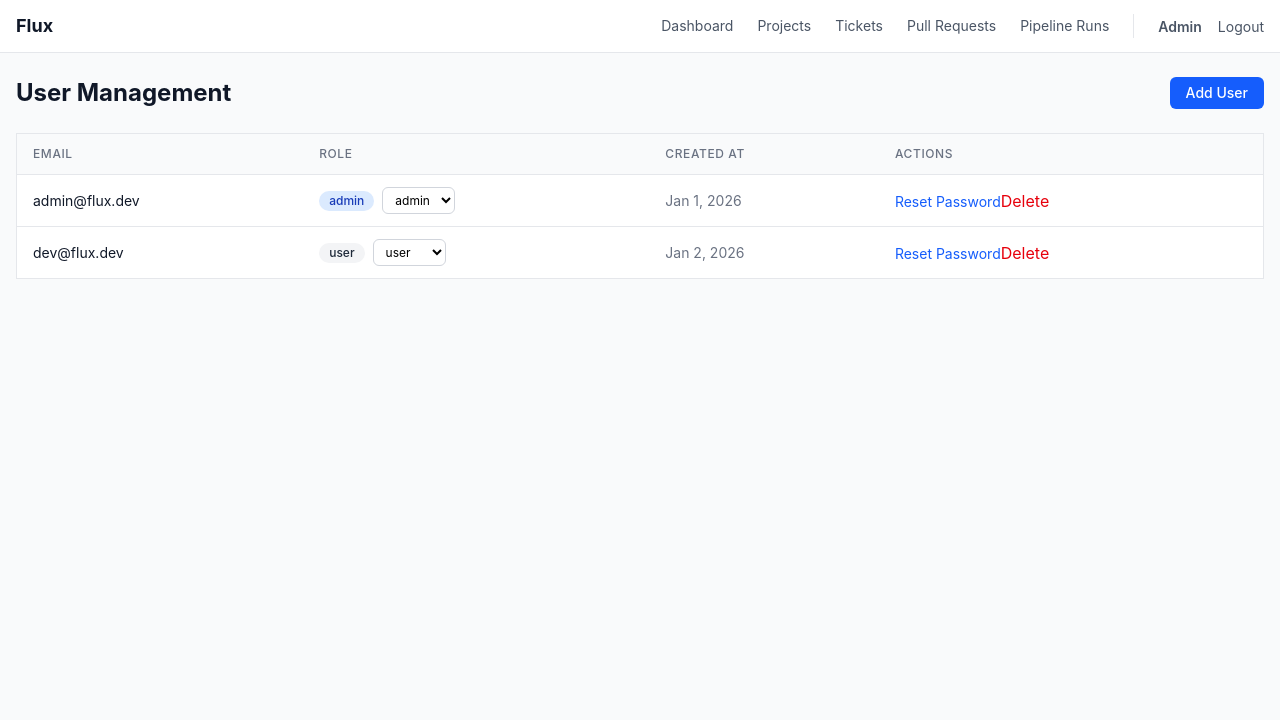
Test: AdminUsersPage › prevents reset submission when passwords do not match
Expected: the text "dev@flux.dev" is shown, [16, 226, 303, 278]
Click the button "Reset Password" in the row of "dev@flux.dev".
click(948, 254)  # box [895, 244, 1001, 264]
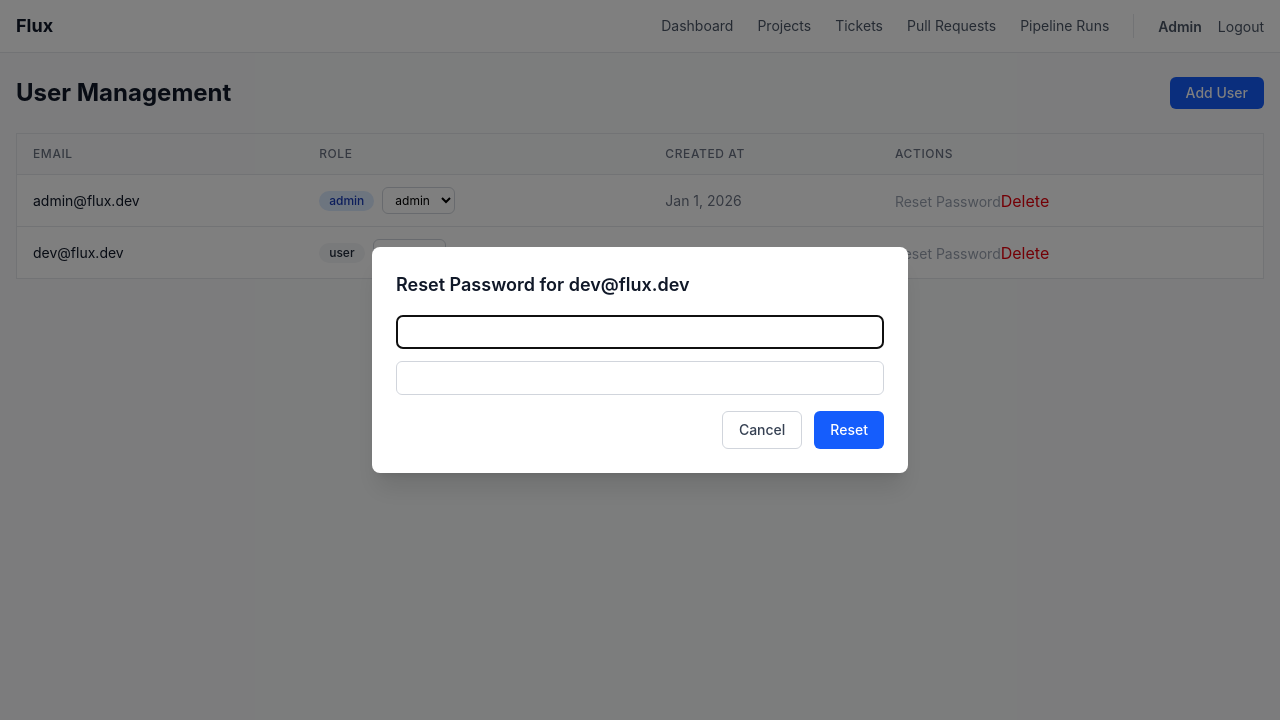
Result: the password field named "new password" is shown
Type "newsecurepass12" into the password field named "new password".
click(640, 332); type("newsecurepass12")  # box [396, 315, 884, 349]
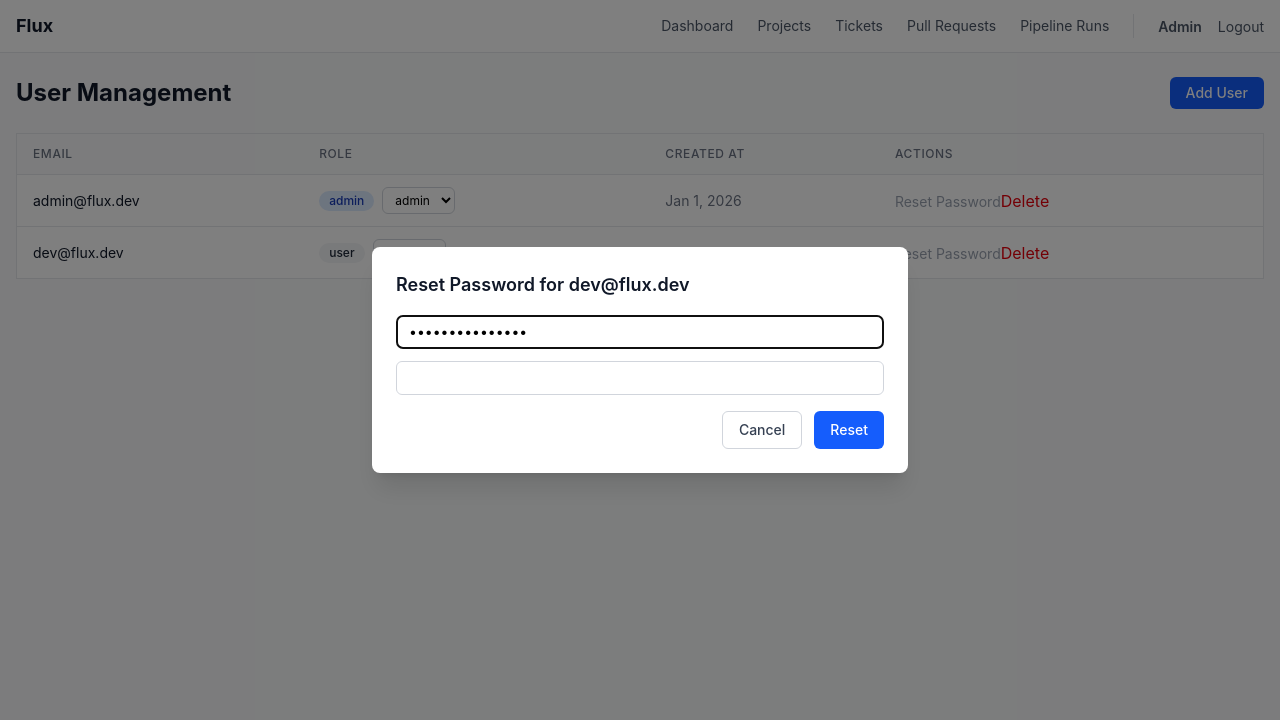
Type "differentpass12" into the password field named "confirm".
click(640, 378); type("differentpass12")  # box [396, 361, 884, 395]
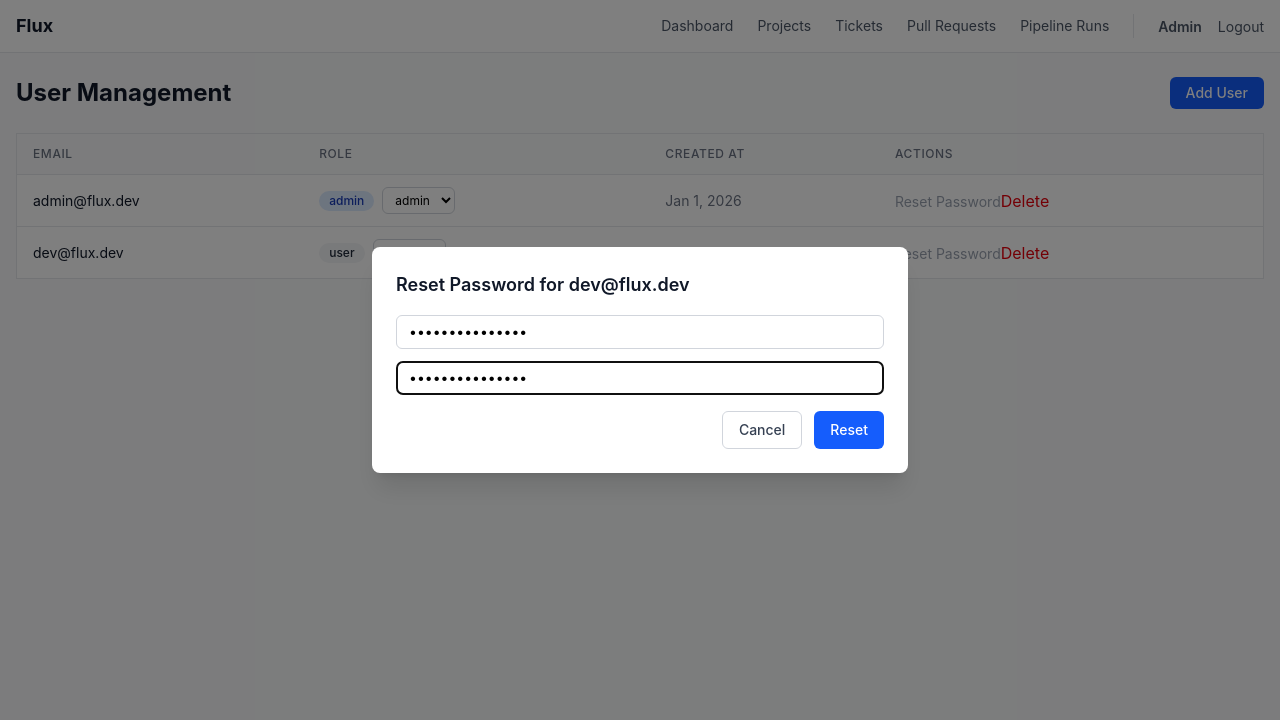
Click the button "Reset".
click(849, 430)  # box [814, 411, 884, 449]
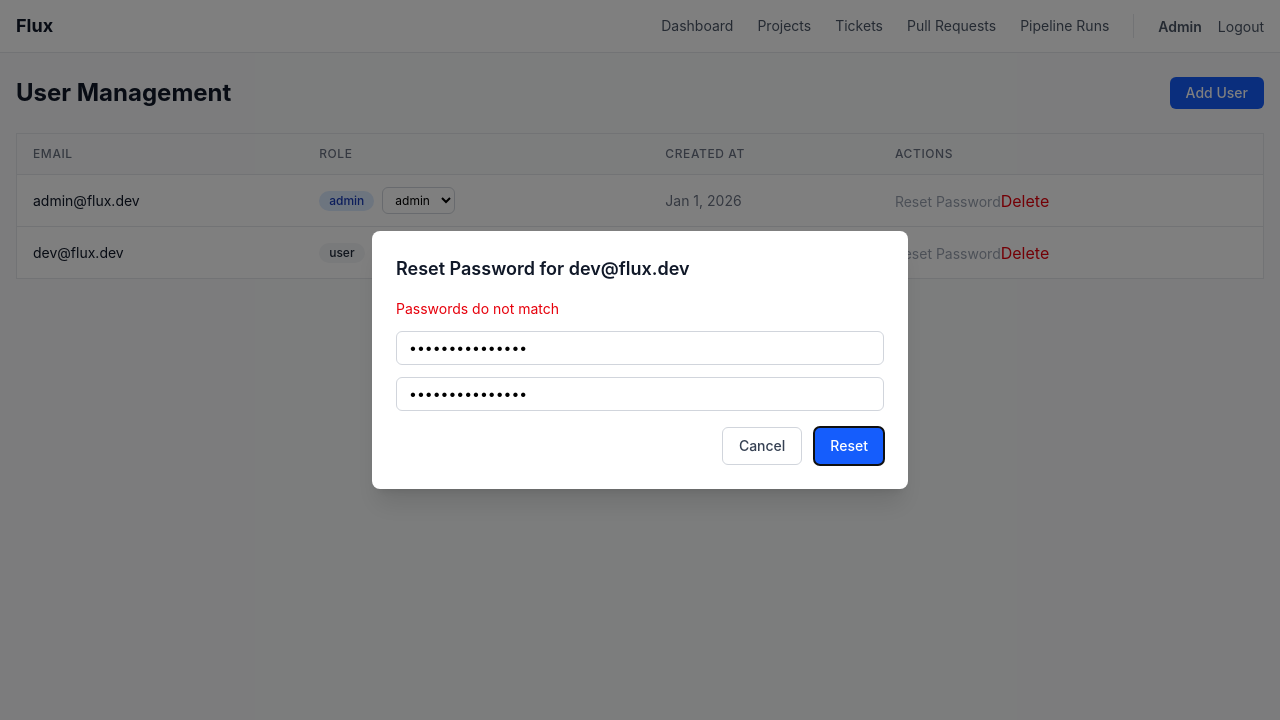
Result: the text "Passwords do not match" is shown at [396, 300, 559, 317]
